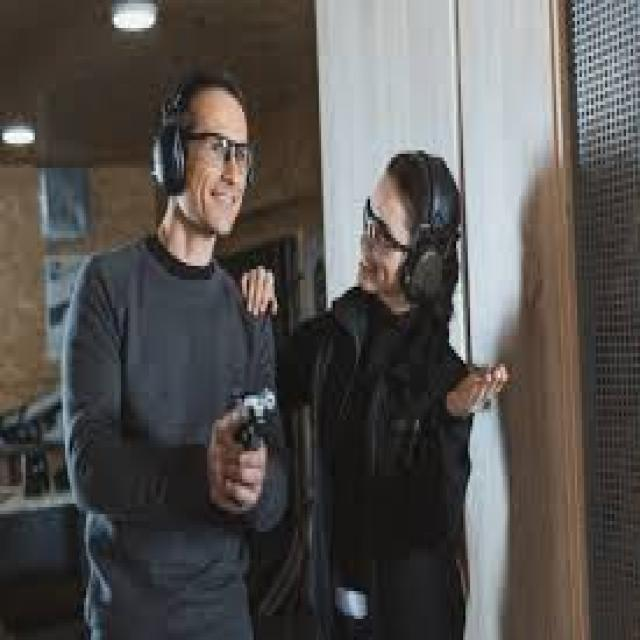Ear-protection: (400, 231, 442, 308), (147, 119, 186, 196)
glasses: (194, 119, 252, 175), (358, 189, 396, 255)
person: (58, 68, 295, 640), (303, 102, 509, 640)
